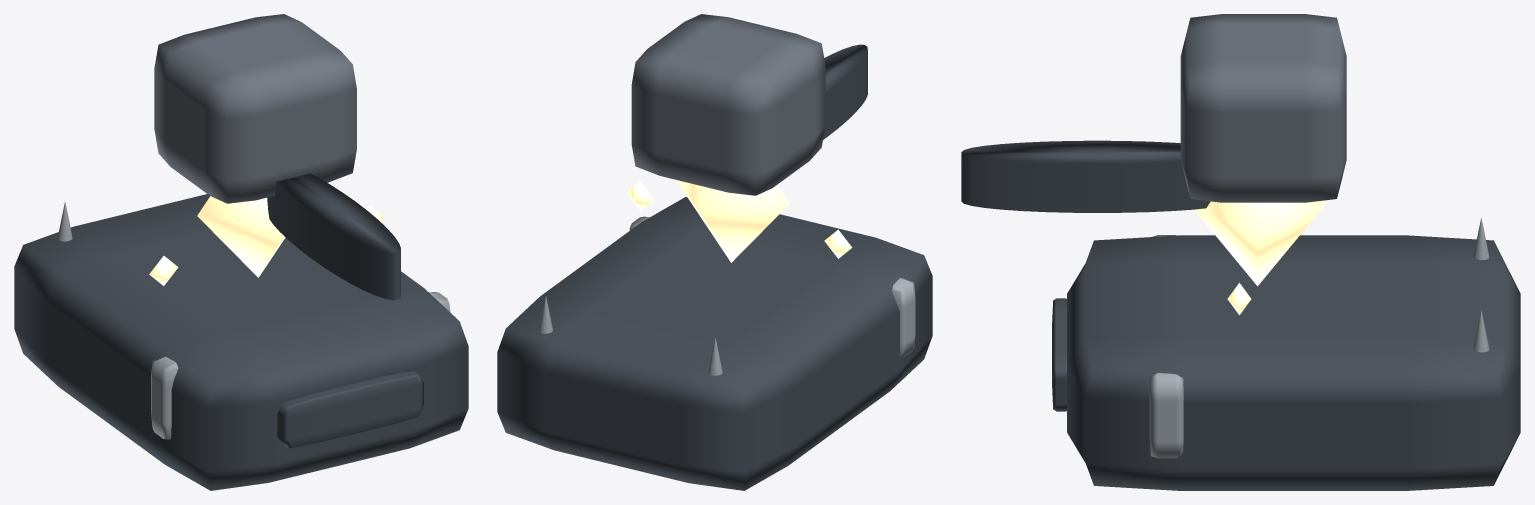
The model's file is war-machine.glb.
3 renders of one model, left to right at view 1: azimuth 30°, elevation 25°; view 2: azimuth 150°, elevation 25°; view 3: azimuth 270°, elevation 25°, orthographic. The views are drawn at different scales.
Parts seen in each view (by area): view 1: lowerHull, head, gun, FrontGrille, core, HullArmor-1; view 2: lowerHull, head, core, gun, HullArmor-1; view 3: lowerHull, head, gun, core, HullArmor1, FrontGrille.
Boxes of the visible parts, x1,y1,x2,y2 form: lowerHull: [14, 194, 468, 490]; head: [154, 14, 356, 203]; gun: [267, 173, 400, 300]; FrontGrille: [277, 371, 423, 448]; core: [197, 196, 285, 277]; HullArmor-1: [151, 356, 178, 439]; lowerHull: [497, 197, 932, 490]; head: [631, 14, 825, 195]; core: [676, 180, 789, 262]; gun: [823, 44, 867, 139]; HullArmor-1: [891, 278, 915, 357]; lowerHull: [1067, 235, 1520, 490]; head: [1180, 14, 1346, 202]; gun: [961, 140, 1210, 212]; core: [1194, 200, 1325, 286]; HullArmor1: [1149, 373, 1183, 458]; FrontGrille: [1052, 298, 1066, 411].
Bounding box in the file's own units: 1.18 × 1.41 × 1.85.
